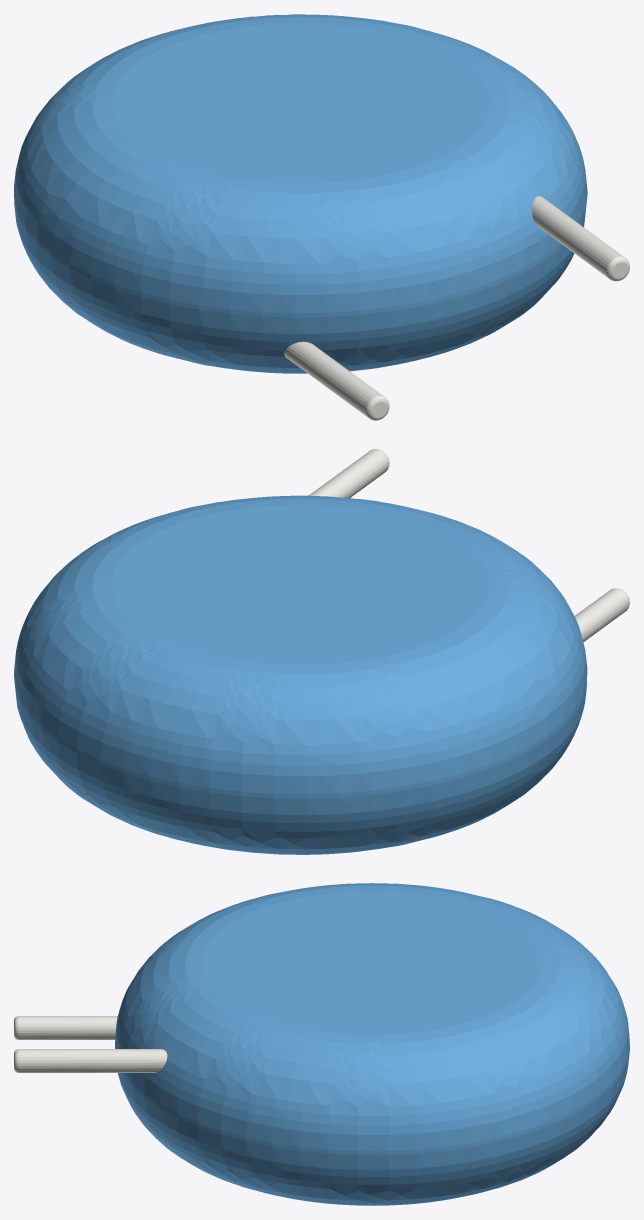
File: RV_Disc_D15.5mm_W5.4mm_P7.5mm.glb
3 renders of one model, top to bottom at view 1: azimuth 30°, elevation 25°; view 2: azimuth 150°, elevation 25°; view 3: azimuth 270°, elevation 25°, orthographic. The views are drawn at different scales.
Visible parts, largest first — view 1: Shape_IndexedFaceSet.001, Shape_IndexedFaceSet.003, Shape_IndexedFaceSet.002, Shape_IndexedFaceSet, Shape_IndexedFaceSet.006, Shape_IndexedFaceSet.004; view 2: Shape_IndexedFaceSet.001, Shape_IndexedFaceSet.003, Shape_IndexedFaceSet.002, Shape_IndexedFaceSet, Shape_IndexedFaceSet.004, Shape_IndexedFaceSet.006; view 3: Shape_IndexedFaceSet.001, Shape_IndexedFaceSet.003, Shape_IndexedFaceSet.002, Shape_IndexedFaceSet.004, Shape_IndexedFaceSet.006, Shape_IndexedFaceSet.
Part boxes in pixels (left/top/right/bottom): Shape_IndexedFaceSet.001: left=14, top=14, right=587, bottom=313; Shape_IndexedFaceSet.003: left=111, top=23, right=489, bottom=183; Shape_IndexedFaceSet.002: left=14, top=205, right=586, bottom=373; Shape_IndexedFaceSet: left=14, top=191, right=587, bottom=317; Shape_IndexedFaceSet.006: left=284, top=341, right=382, bottom=417; Shape_IndexedFaceSet.004: left=532, top=196, right=623, bottom=278; Shape_IndexedFaceSet.001: left=14, top=495, right=587, bottom=794; Shape_IndexedFaceSet.003: left=111, top=504, right=489, bottom=664; Shape_IndexedFaceSet.002: left=15, top=686, right=586, bottom=854; Shape_IndexedFaceSet: left=14, top=671, right=587, bottom=798; Shape_IndexedFaceSet.004: left=309, top=449, right=388, bottom=497; Shape_IndexedFaceSet.006: left=574, top=588, right=629, bottom=642; Shape_IndexedFaceSet.001: left=115, top=883, right=629, bottom=1151; Shape_IndexedFaceSet.003: left=202, top=891, right=542, bottom=1034; Shape_IndexedFaceSet.002: left=118, top=1050, right=629, bottom=1205; Shape_IndexedFaceSet.004: left=18, top=1049, right=167, bottom=1072; Shape_IndexedFaceSet.006: left=18, top=1016, right=117, bottom=1039; Shape_IndexedFaceSet: left=115, top=1047, right=629, bottom=1155.
Bounding box in the file's own units: 6.1 × 2.13 × 7.29.
